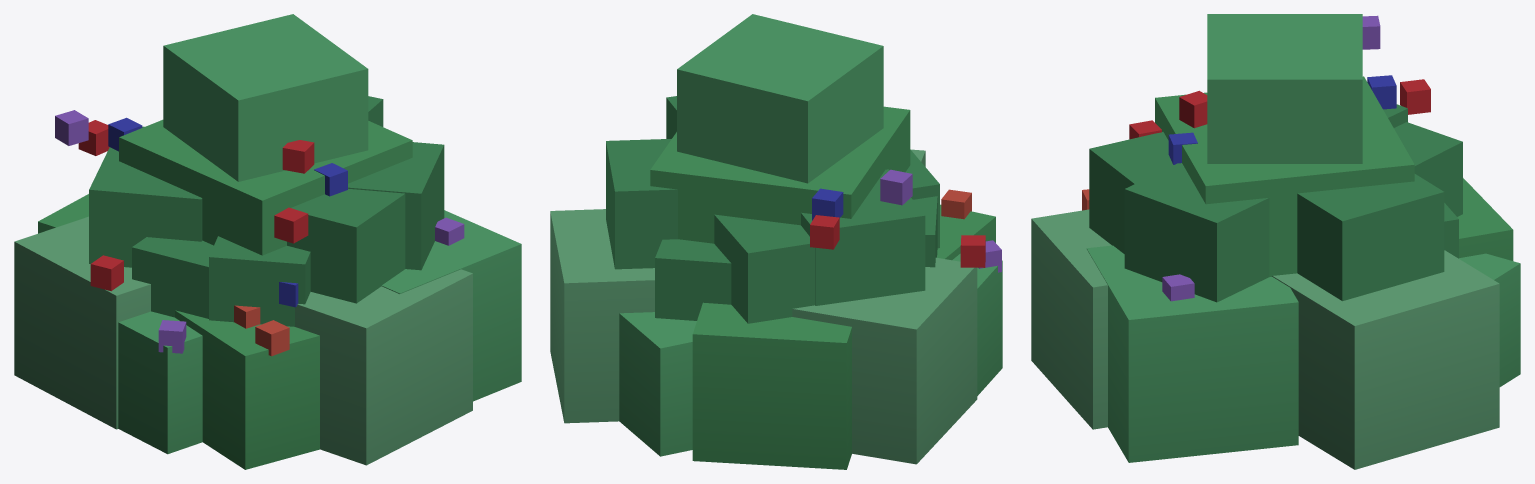
The model's file is giant-bramble.glb.
3 views of the same model, side by side, from view 1: azimuth 30°, elevation 25°; view 2: azimuth 150°, elevation 25°; view 3: azimuth 270°, elevation 25° (orthographic). The views are drawn at different scales.
Parts seen in each view (by area): view 1: giant-bramble_body; view 2: giant-bramble_body; view 3: giant-bramble_body.
Part boxes in pixels (left/top/right/bottom): giant-bramble_body: left=14, top=14, right=521, bottom=469; giant-bramble_body: left=550, top=14, right=1002, bottom=469; giant-bramble_body: left=1031, top=14, right=1520, bottom=469.
Bounding box in the file's own units: 7.76 × 6 × 8.19.
